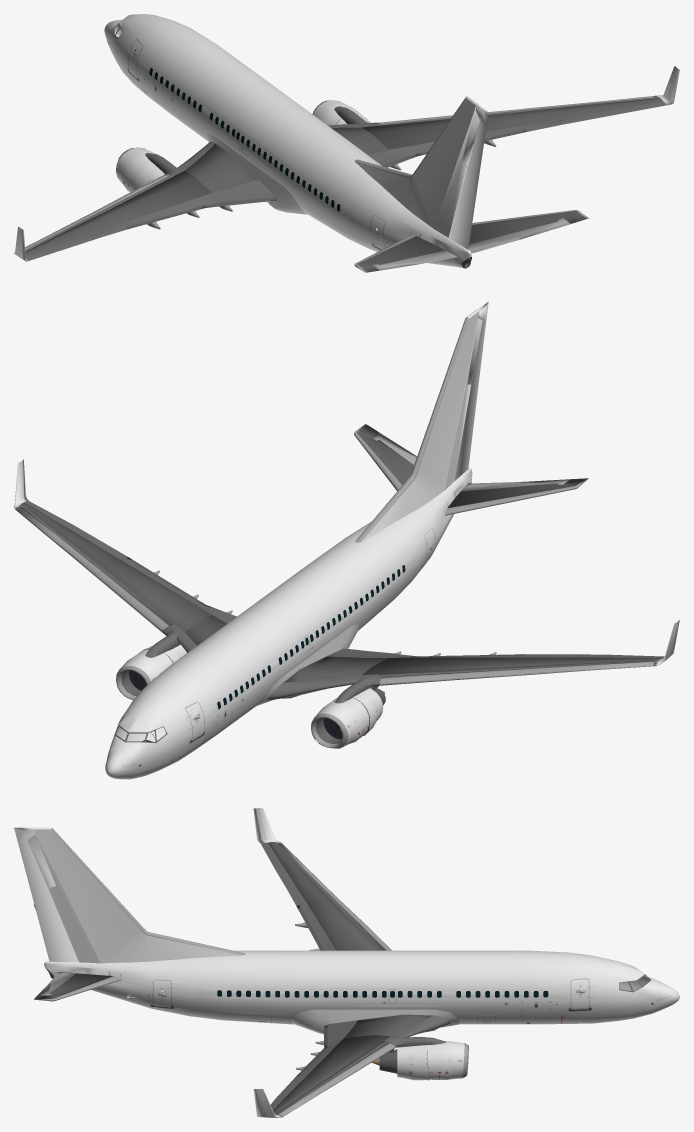
File: airplane.glb
The picture shows the model from 3 angles, top to bottom: view 1: azimuth 30°, elevation 25°; view 2: azimuth 150°, elevation 25°; view 3: azimuth 270°, elevation 25°; orthographic projection. The views are drawn at different scales.
Visible parts, largest first — view 1: rootNode; view 2: rootNode; view 3: rootNode.
Part boxes in pixels (left/top/right/bottom): rootNode: left=14, top=14, right=679, bottom=272; rootNode: left=14, top=302, right=679, bottom=779; rootNode: left=14, top=808, right=679, bottom=1117.
Size of the model in its own units: 34.85 by 12.08 by 34.93.
Materials: 92 (18 with a texture image).
